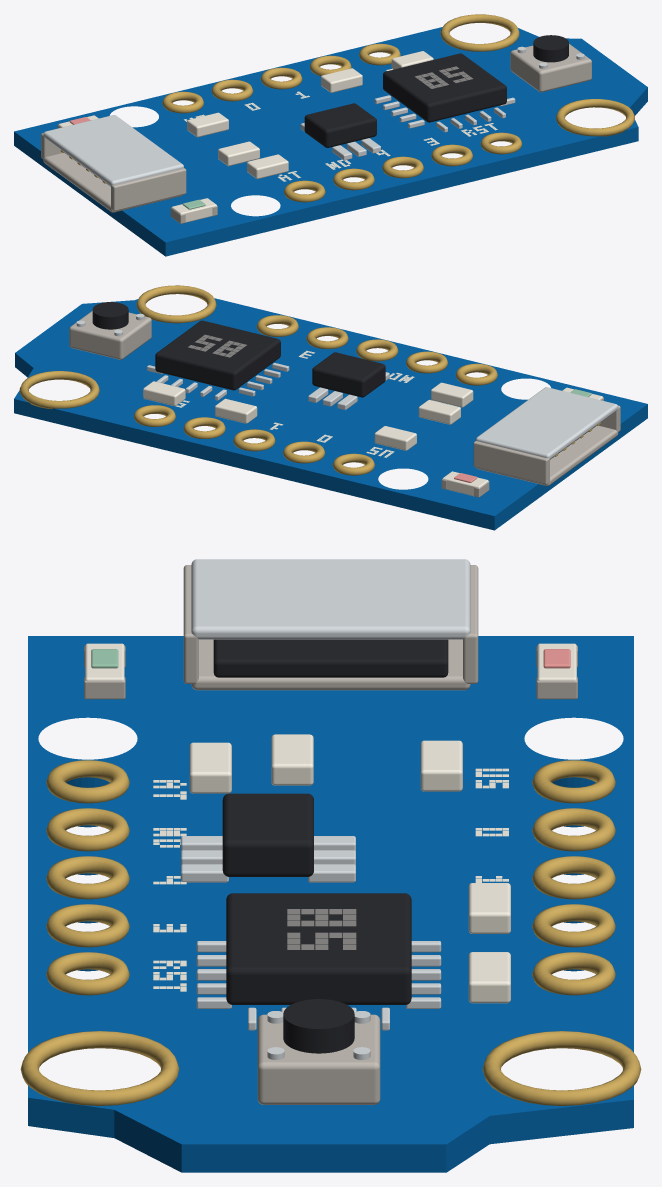
Rendered from boards-06.glb.
3 views of the same model, one above another, from view 1: azimuth 30°, elevation 25°; view 2: azimuth 150°, elevation 25°; view 3: azimuth 270°, elevation 25° (orthographic). The views are drawn at different scales.
Parts seen in each view (by area): view 1: board, usb, chip, pads, support, reset, mounts, power-led; view 2: board, usb, pads, support, chip, reset, mounts, status; view 3: board, usb, pads, chip, support, reset, mounts, status, power-led.
Boxes of the visible parts, <box> form: board: <box>14,27,647,256</box>; usb: <box>41,115,186,212</box>; chip: <box>374,53,515,132</box>; pads: <box>162,43,522,202</box>; support: <box>187,51,433,178</box>; reset: <box>510,35,591,92</box>; mounts: <box>440,14,634,136</box>; power-led: <box>170,198,217,223</box>; board: <box>14,298,647,530</box>; usb: <box>473,387,620,485</box>; pads: <box>133,315,497,475</box>; support: <box>143,352,473,450</box>; chip: <box>147,320,289,400</box>; reset: <box>69,302,151,359</box>; mounts: <box>19,285,216,409</box>; status: <box>441,471,489,497</box>; board: <box>28,636,633,1172</box>; usb: <box>183,559,478,690</box>; pads: <box>46,760,615,995</box>; chip: <box>196,893,441,1030</box>; support: <box>181,734,510,1003</box>; reset: <box>257,999,380,1104</box>; mounts: <box>20,1031,641,1105</box>; status: <box>536,643,577,699</box>; power-led: <box>84,643,125,699</box>.
Bounding box in the file's own units: 2.56 × 0.224 × 1.29.
